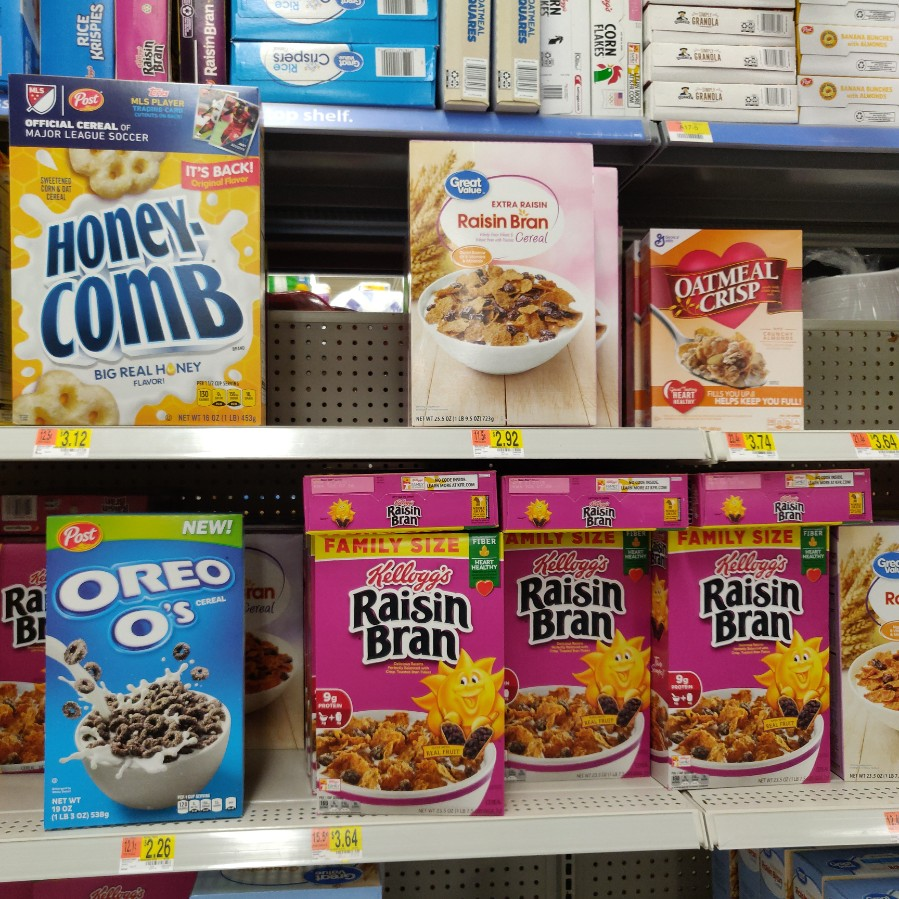Honey Comb- 009288857: (4, 71, 269, 421)
Oreo-563424384: (37, 509, 245, 823)
